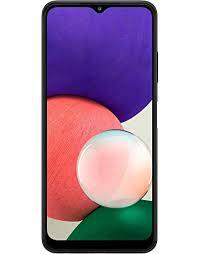Smartphone: (37, 0, 154, 248)
